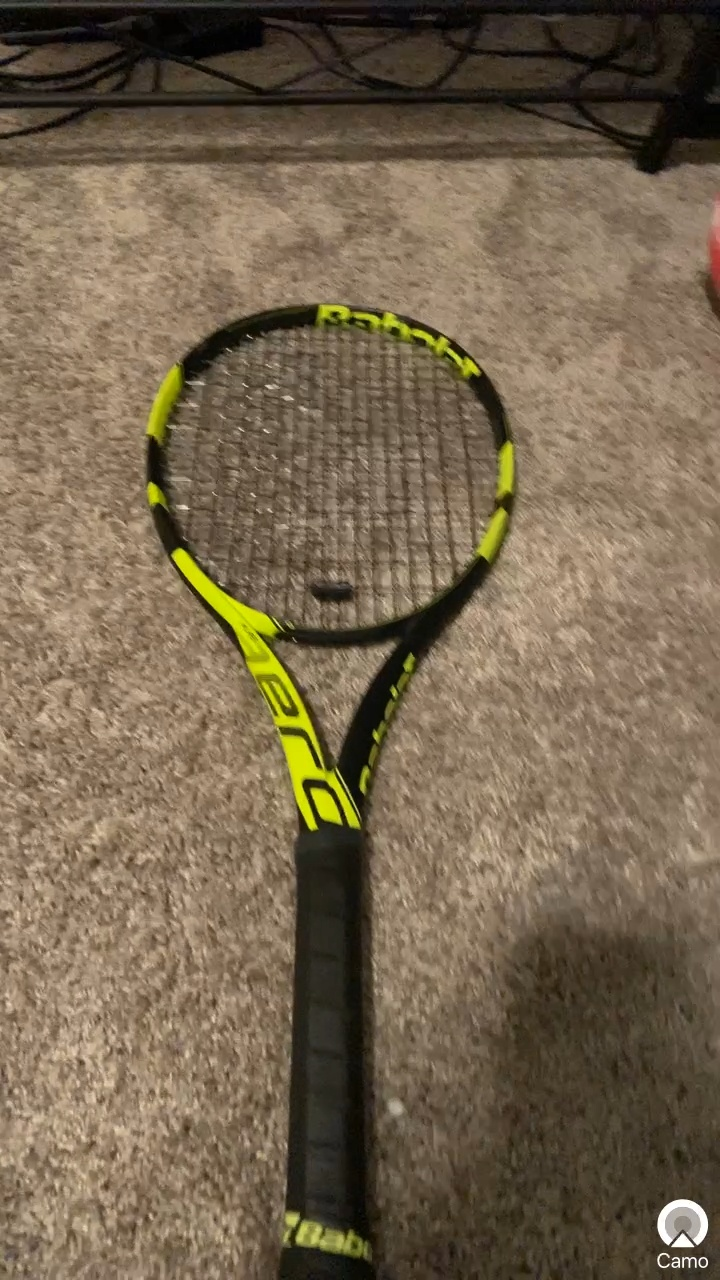Tennis_Racquet: (126, 280, 560, 1280)
